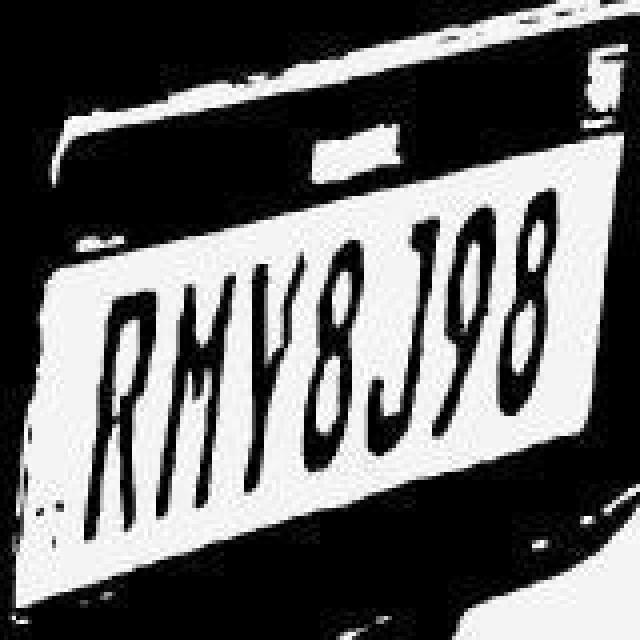8: (300, 238, 372, 474), (494, 184, 562, 416)
9: (430, 202, 498, 438)
J: (366, 214, 442, 458)
M: (154, 272, 238, 520)
R: (80, 290, 160, 550)
Y: (242, 250, 310, 502)
